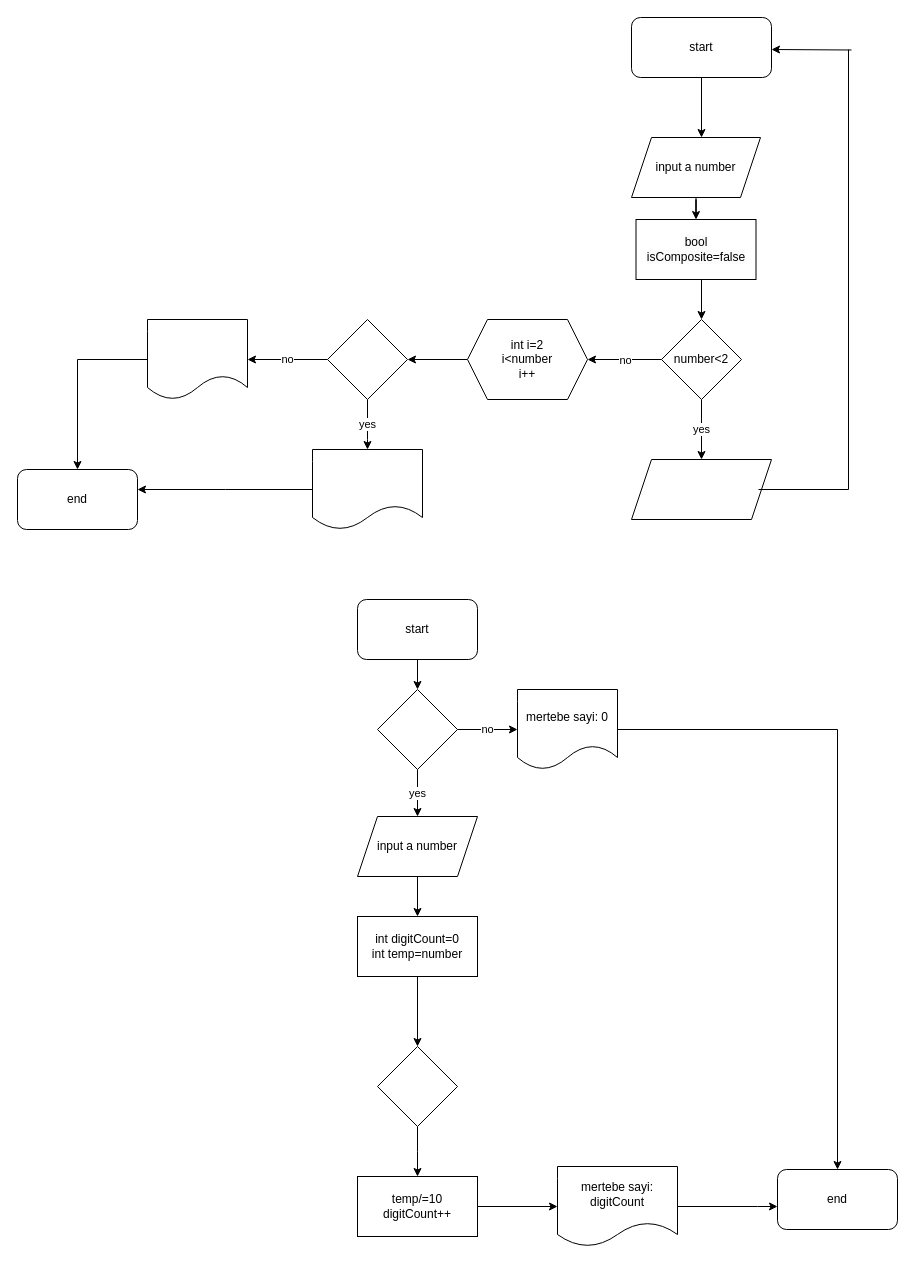
Some shapes in this 915 by 1264 pixel diagram are drawn without their labels. Here are the shapes that lost their labels. From the top down, the box of each, then its label:
(146, 318, 248, 400): prime
(326, 318, 408, 400): number%i==0
(312, 448, 422, 530): composite
(630, 458, 772, 520): not prime or composite
(376, 688, 458, 770): number!=0
(376, 1046, 458, 1126): temp>0
